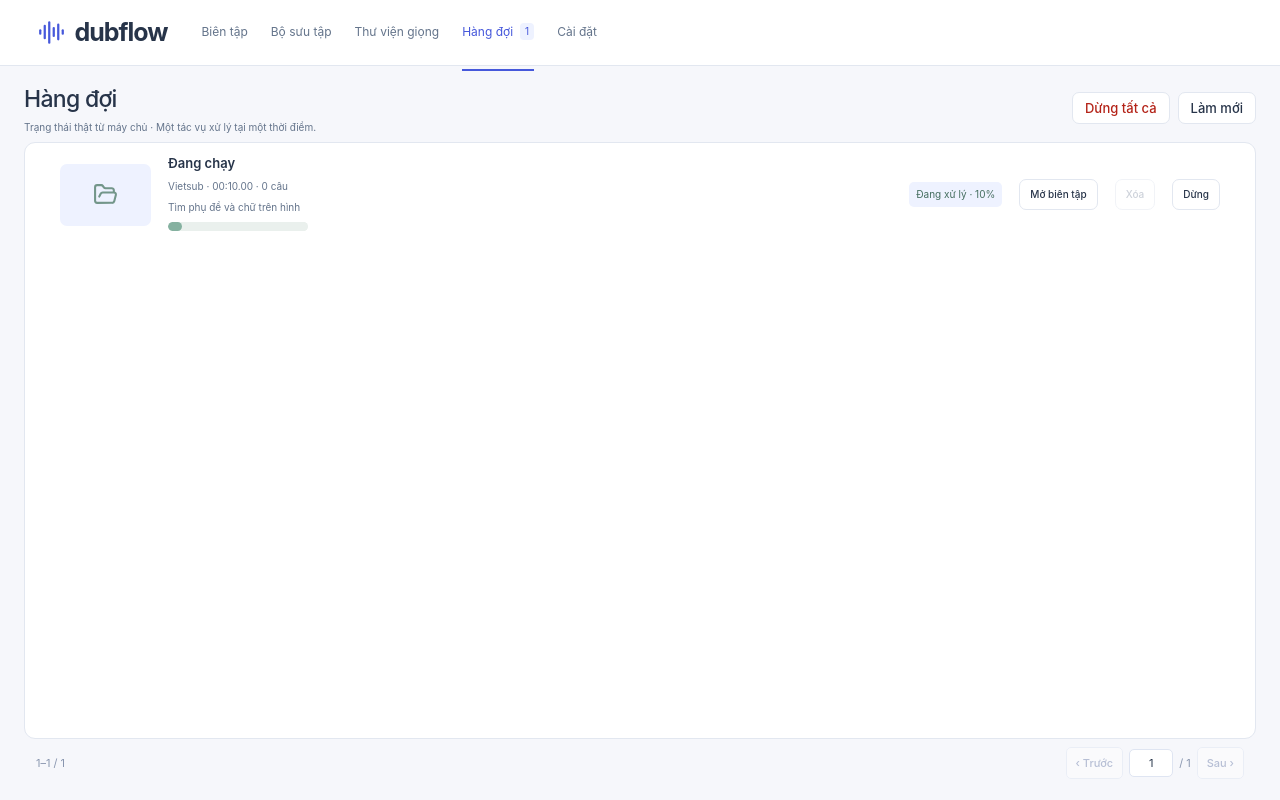
Test case: queue: stop-all reports the count and unstoppable processes
Check: the heading "Đang chạy" is shown, box [168,154,235,170]
Click the button "Dừng tất cả": (1121, 108) [1072,92,1170,124]
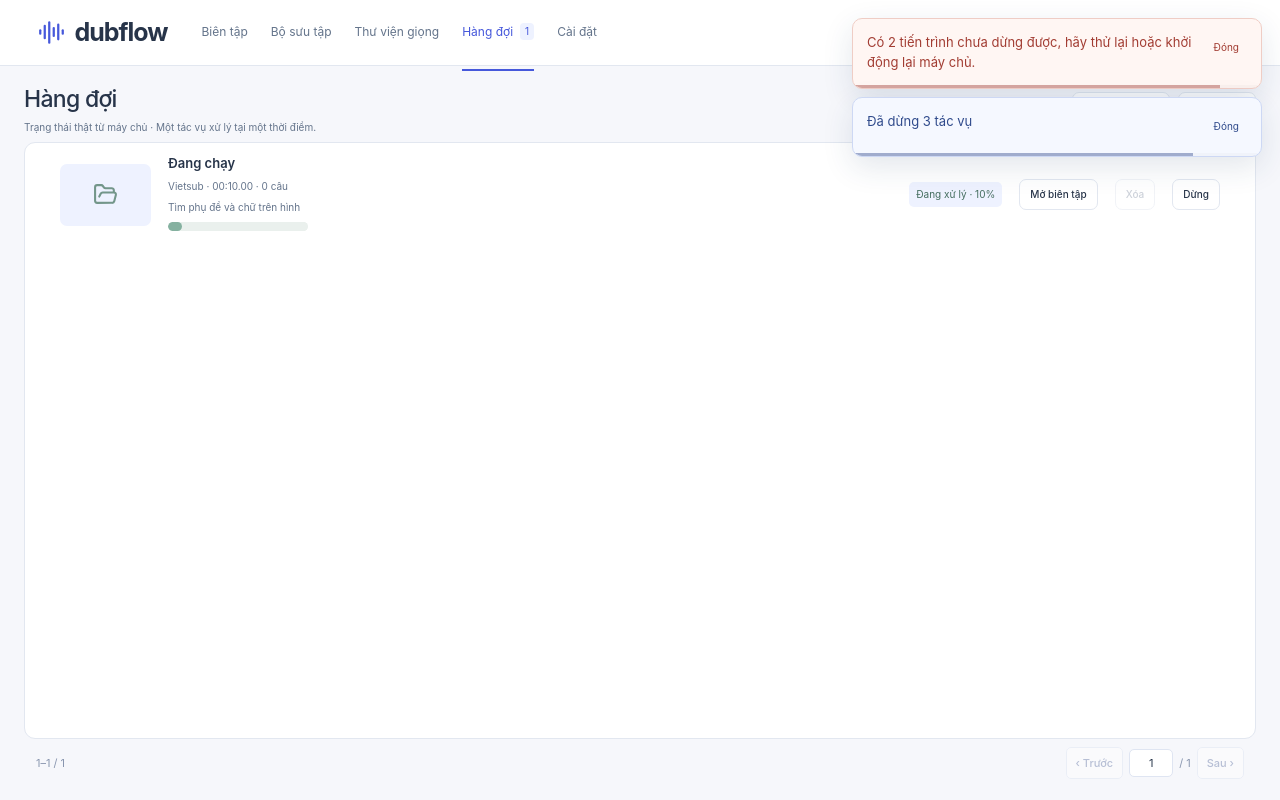
Check: the text "Đã dừng 3 tác vụ" is shown, box [867,113,972,129]
Check: the text "Có 2 tiến trình chưa dừng được, hãy thử lại hoặc khởi động lại máy chủ." is shown, box [867,33,1194,72]
